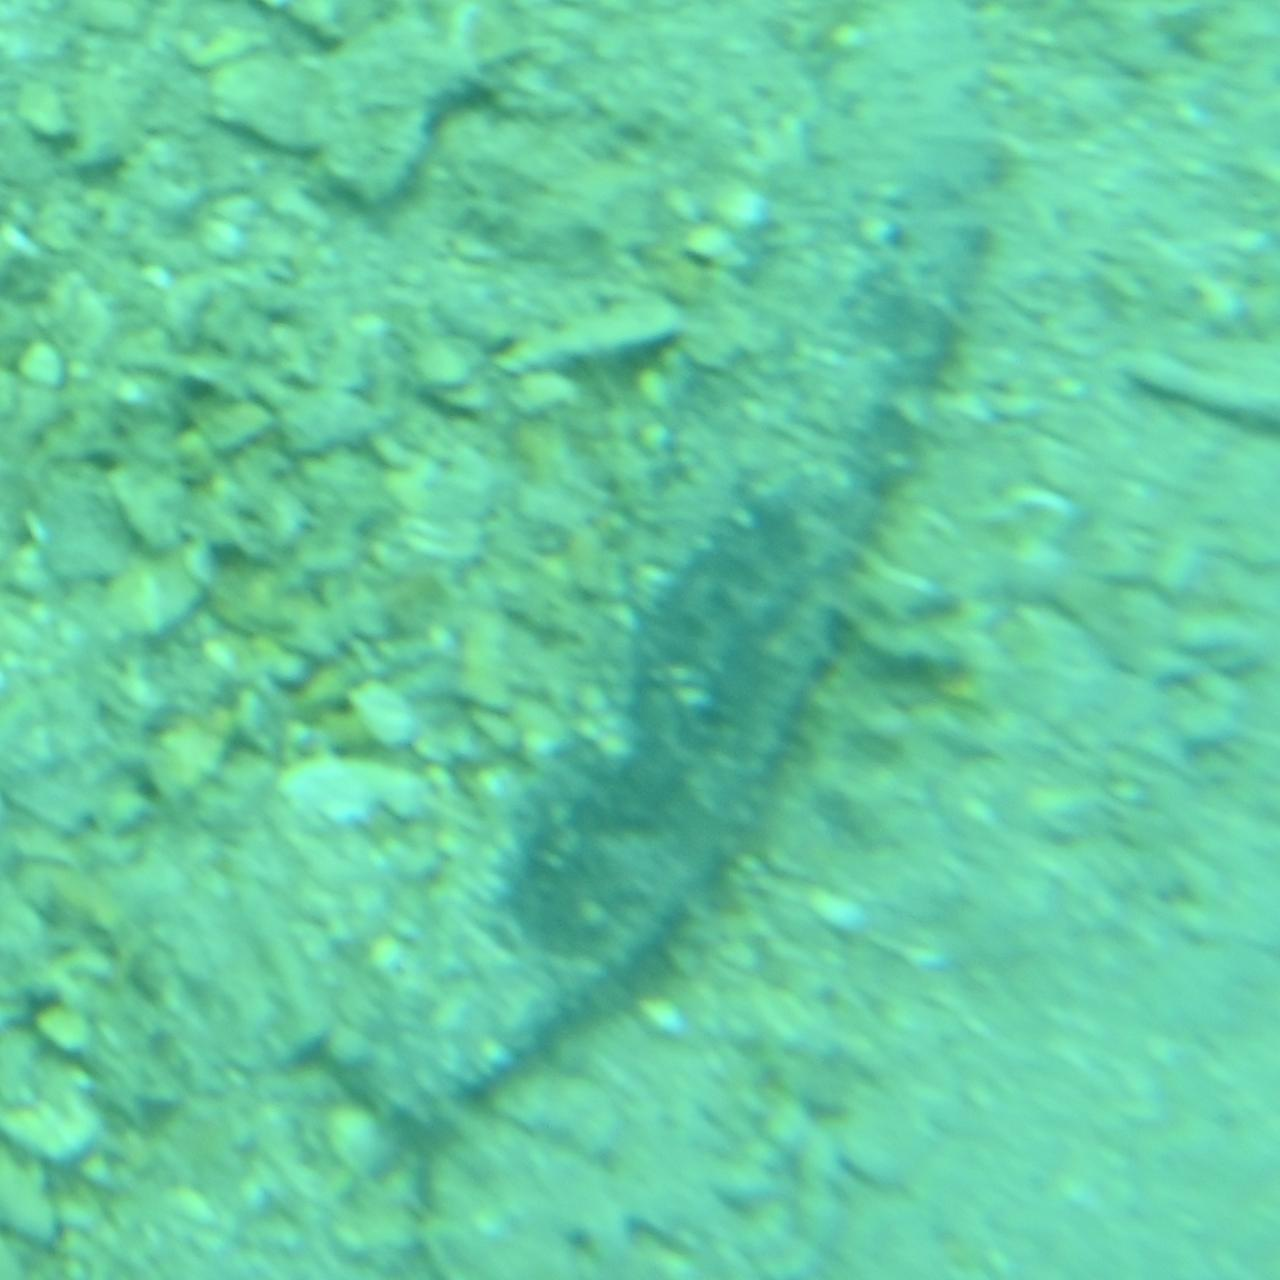Holothuria tubulosa: (253, 110, 1027, 1170)
